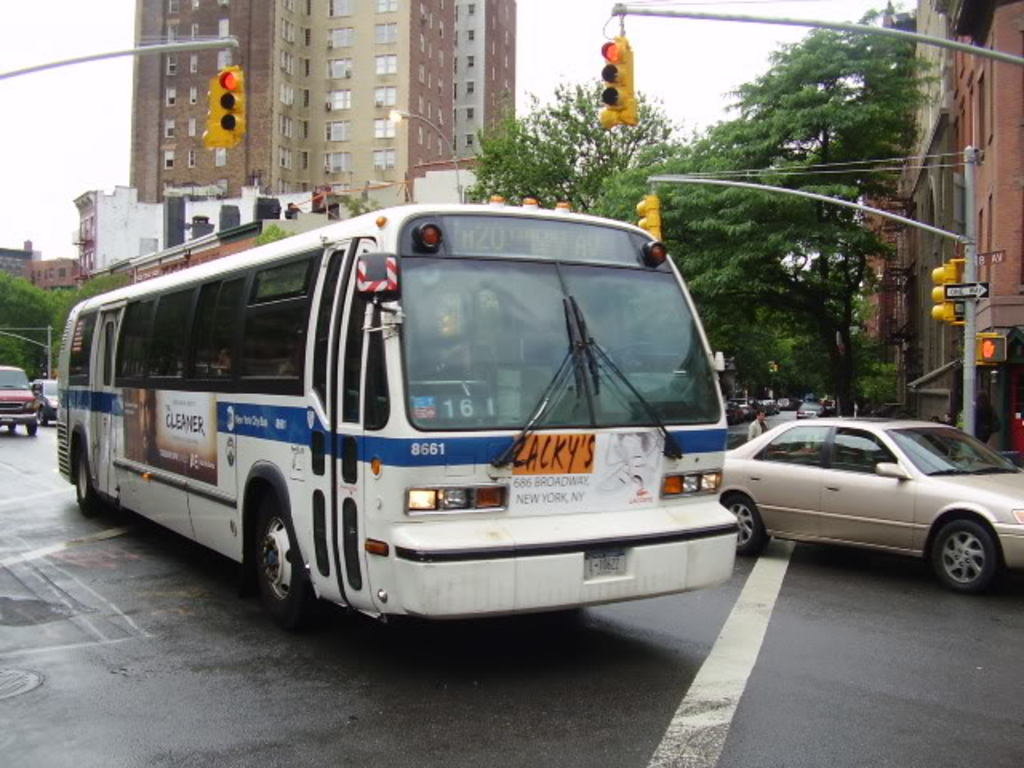Bus: (51, 203, 734, 615)
